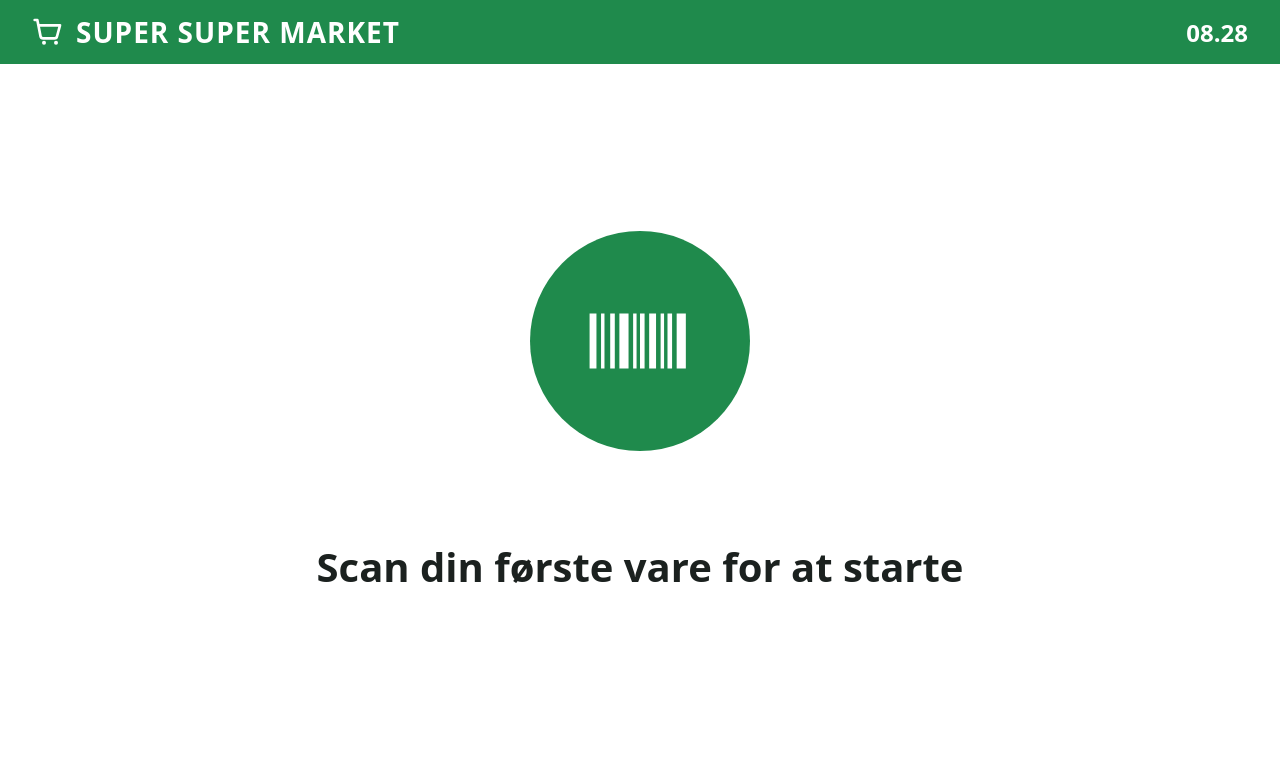
Scenario: Instruktørpanelet på kassen › Udløs nu lukker panelet og viser fejlen med det samme
This screenshot has width=1280, height=779.
Press A
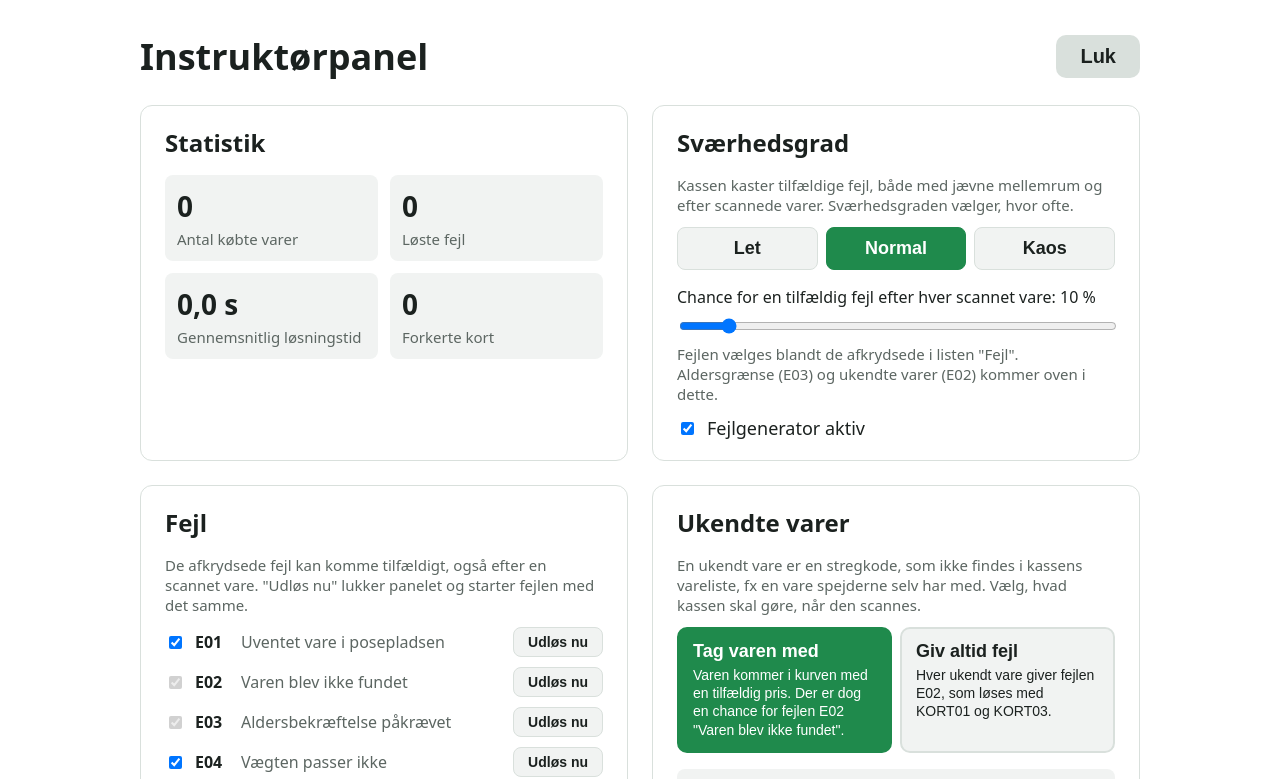
Check: the heading "Instruktørpanel" is shown, box [140,32,428,81]
Click the button "Udløs nu" in the row of "E01".
click(558, 642)  # box [513,627,603,657]
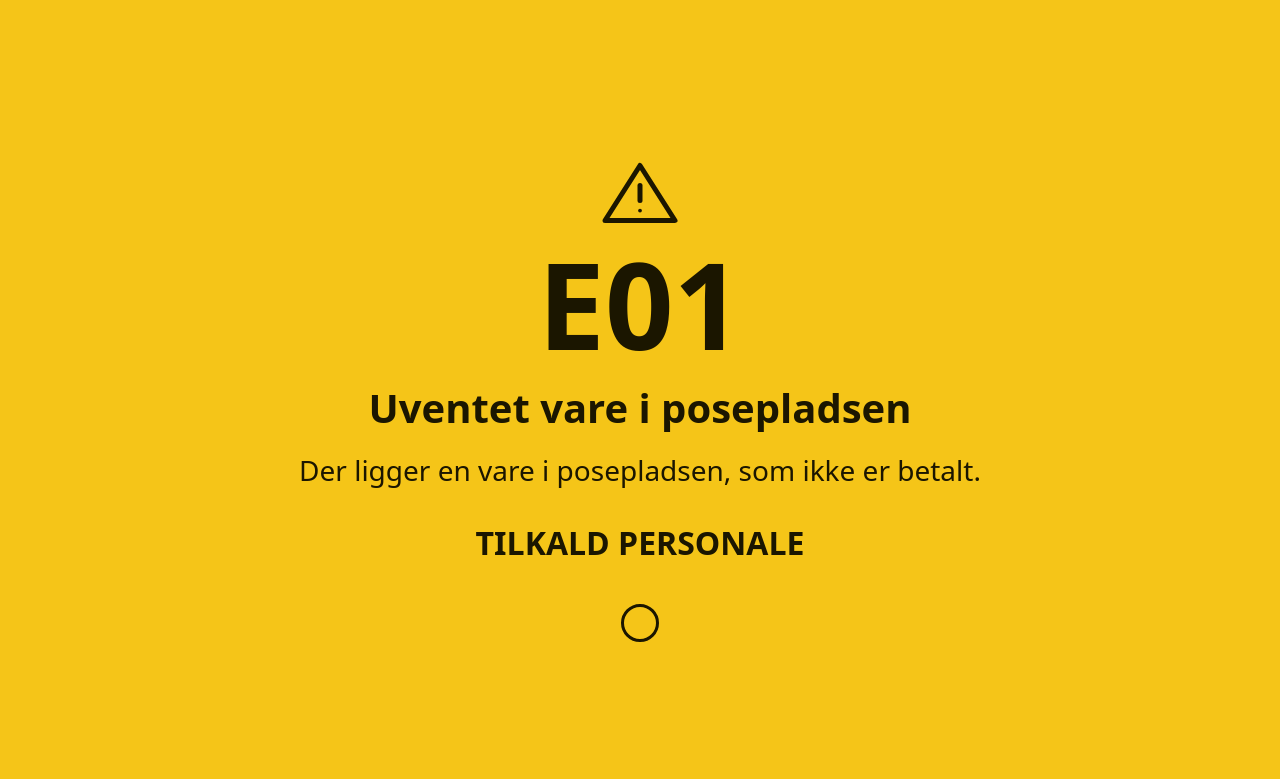
Check: the text "E01" is shown, box [538,244,742,364]
Check: the heading "Uventet vare i posepladsen" is shown, box [368,380,912,435]
Check: the heading "Instruktørpanel" is gone
